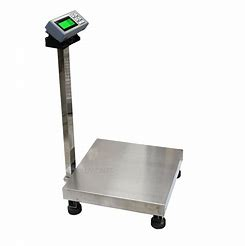Industrial Scale: (42, 9, 184, 229)
